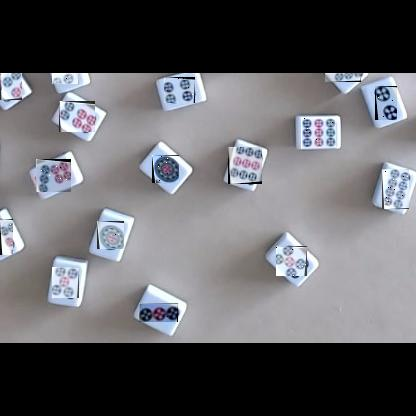1p: (152, 155, 179, 183), (97, 221, 124, 249)
2p: (375, 86, 397, 120)
3p: (139, 303, 178, 322)
4p: (164, 77, 195, 103), (52, 73, 79, 84)
5p: (276, 246, 307, 276), (52, 267, 79, 298)
6p: (59, 101, 95, 132), (0, 73, 22, 100)
7p: (36, 159, 71, 192), (325, 73, 361, 82)
8p: (382, 169, 409, 209)
9p: (228, 147, 262, 184), (301, 117, 336, 149), (0, 219, 13, 255)
